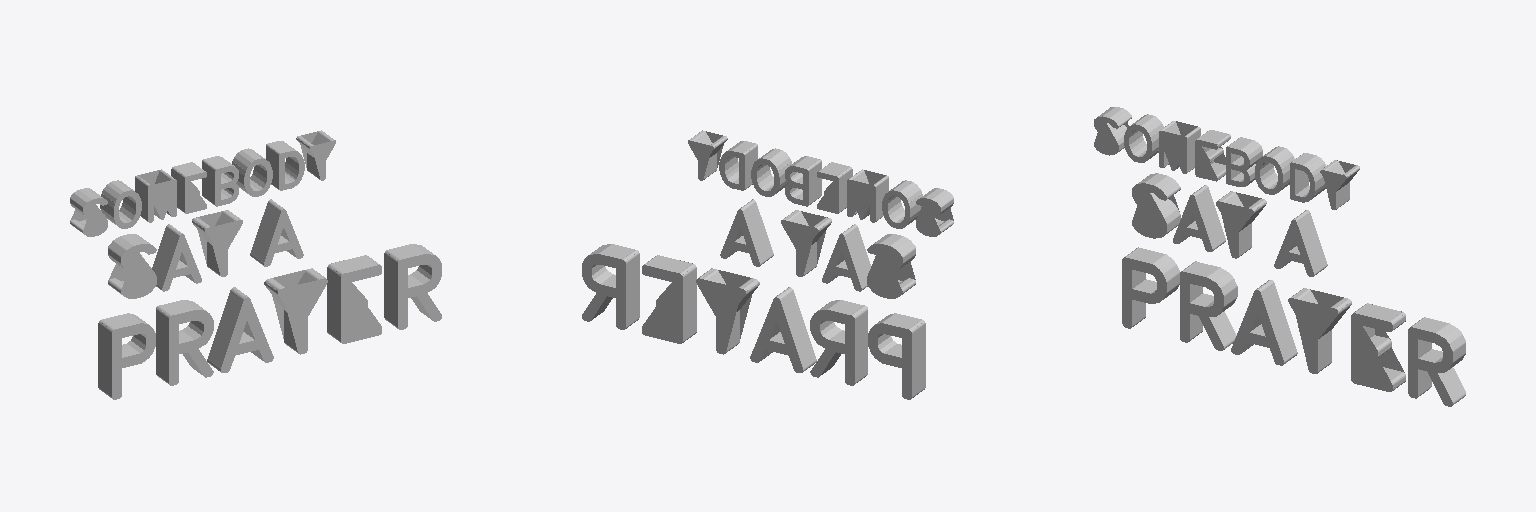
The picture shows the model from 3 angles: view 1: azimuth 30°, elevation 25°; view 2: azimuth 150°, elevation 25°; view 3: azimuth 330°, elevation 25°; orthographic projection.
Parts seen in each view (by area): view 1: Extrude.1; view 2: Extrude.1; view 3: Extrude.1.
Boxes of the visible parts, x1=… form: Extrude.1: x1=70, y1=130, x2=441, y2=399; Extrude.1: x1=582, y1=130, x2=953, y2=399; Extrude.1: x1=1094, y1=107, x2=1465, y2=406.
Bounding box in the file's own units: 45.94 × 25.16 × 3.